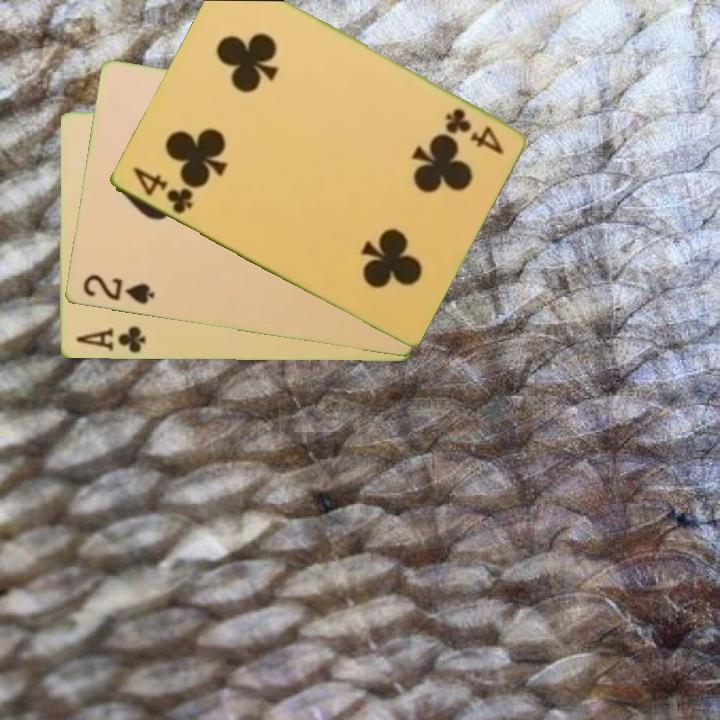2s: (79, 271, 157, 308)
4c: (128, 164, 196, 217), (441, 104, 507, 158)
Ac: (72, 323, 148, 356)
